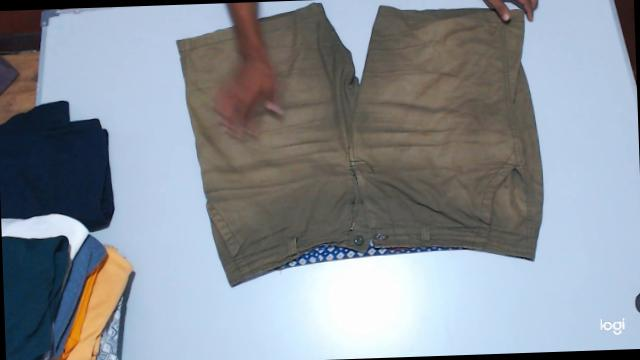new-garment: (177, 3, 544, 286)
